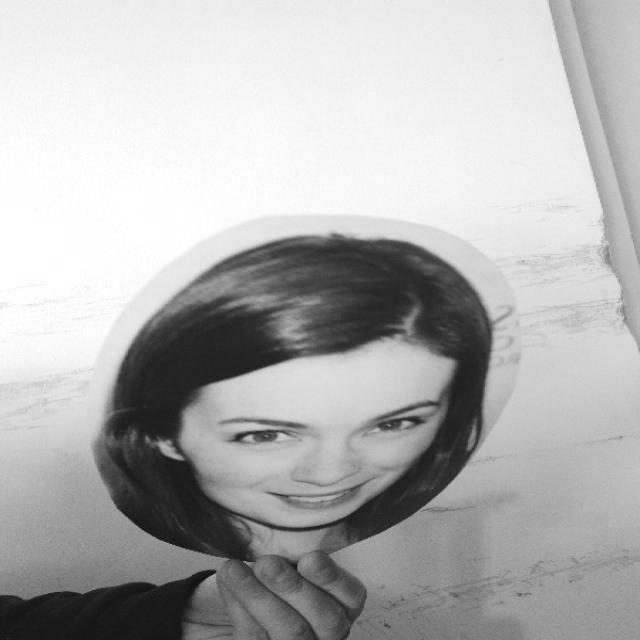fake: (76, 204, 530, 572)
